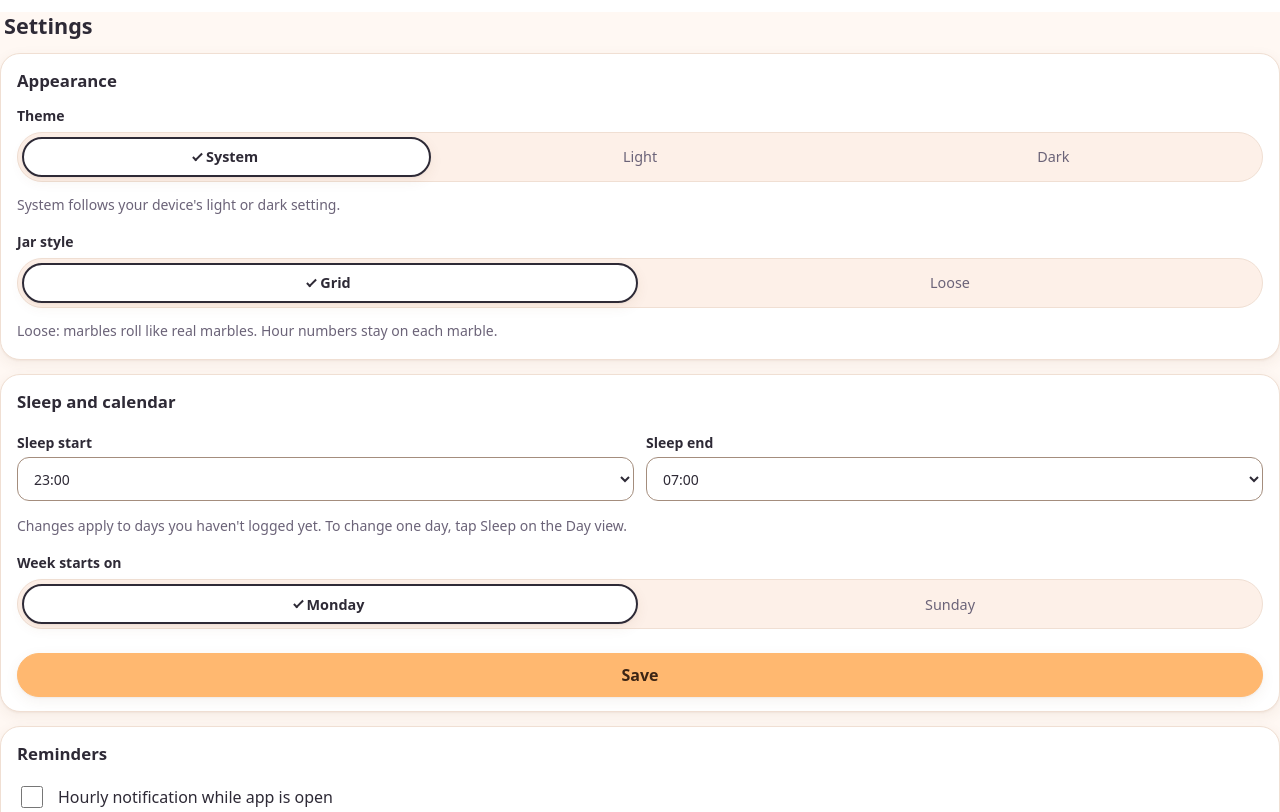
Test: SettingsView › confirms saved settings with a toast
Click the button "Save" at (640, 675), box [17,653,1263,697]
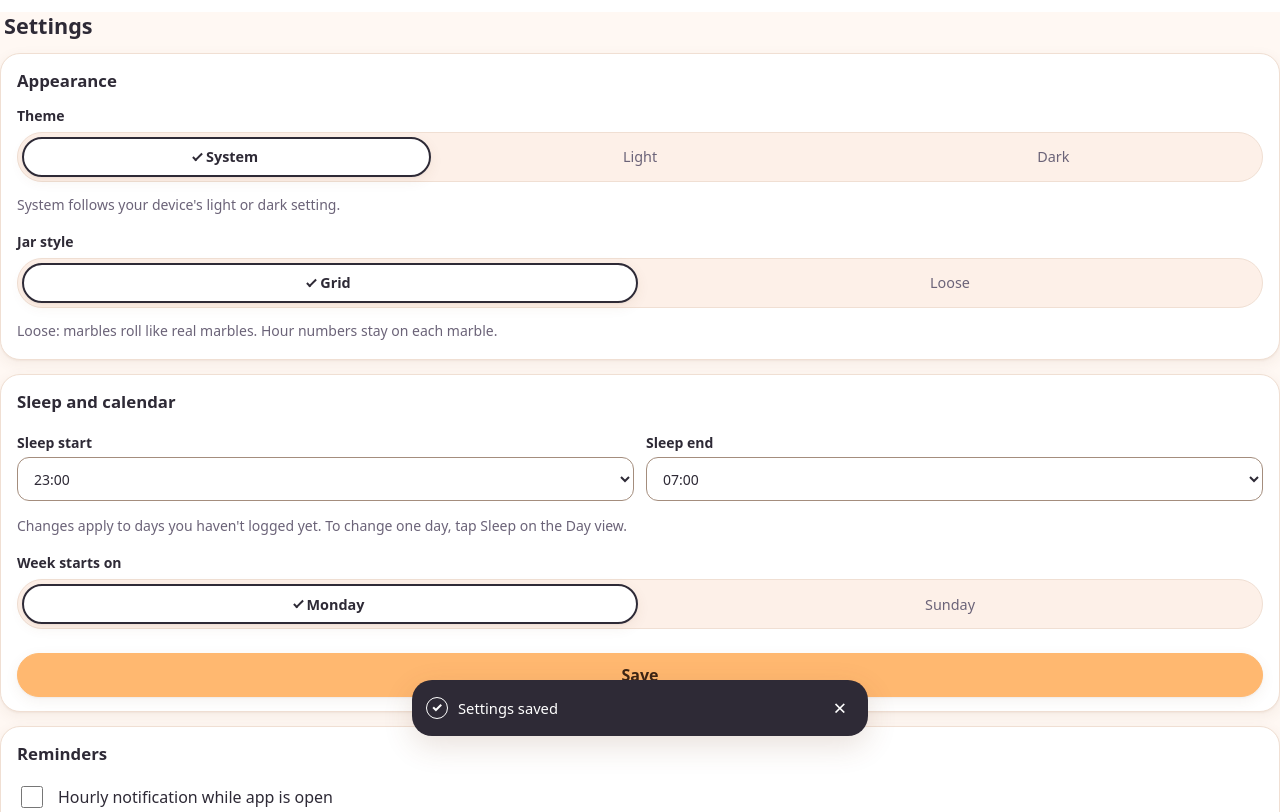
Now the message shows "Settings saved", box [458,698,558,718]
